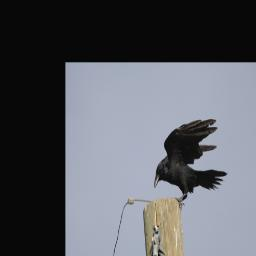Crow: (153, 117, 229, 209)
